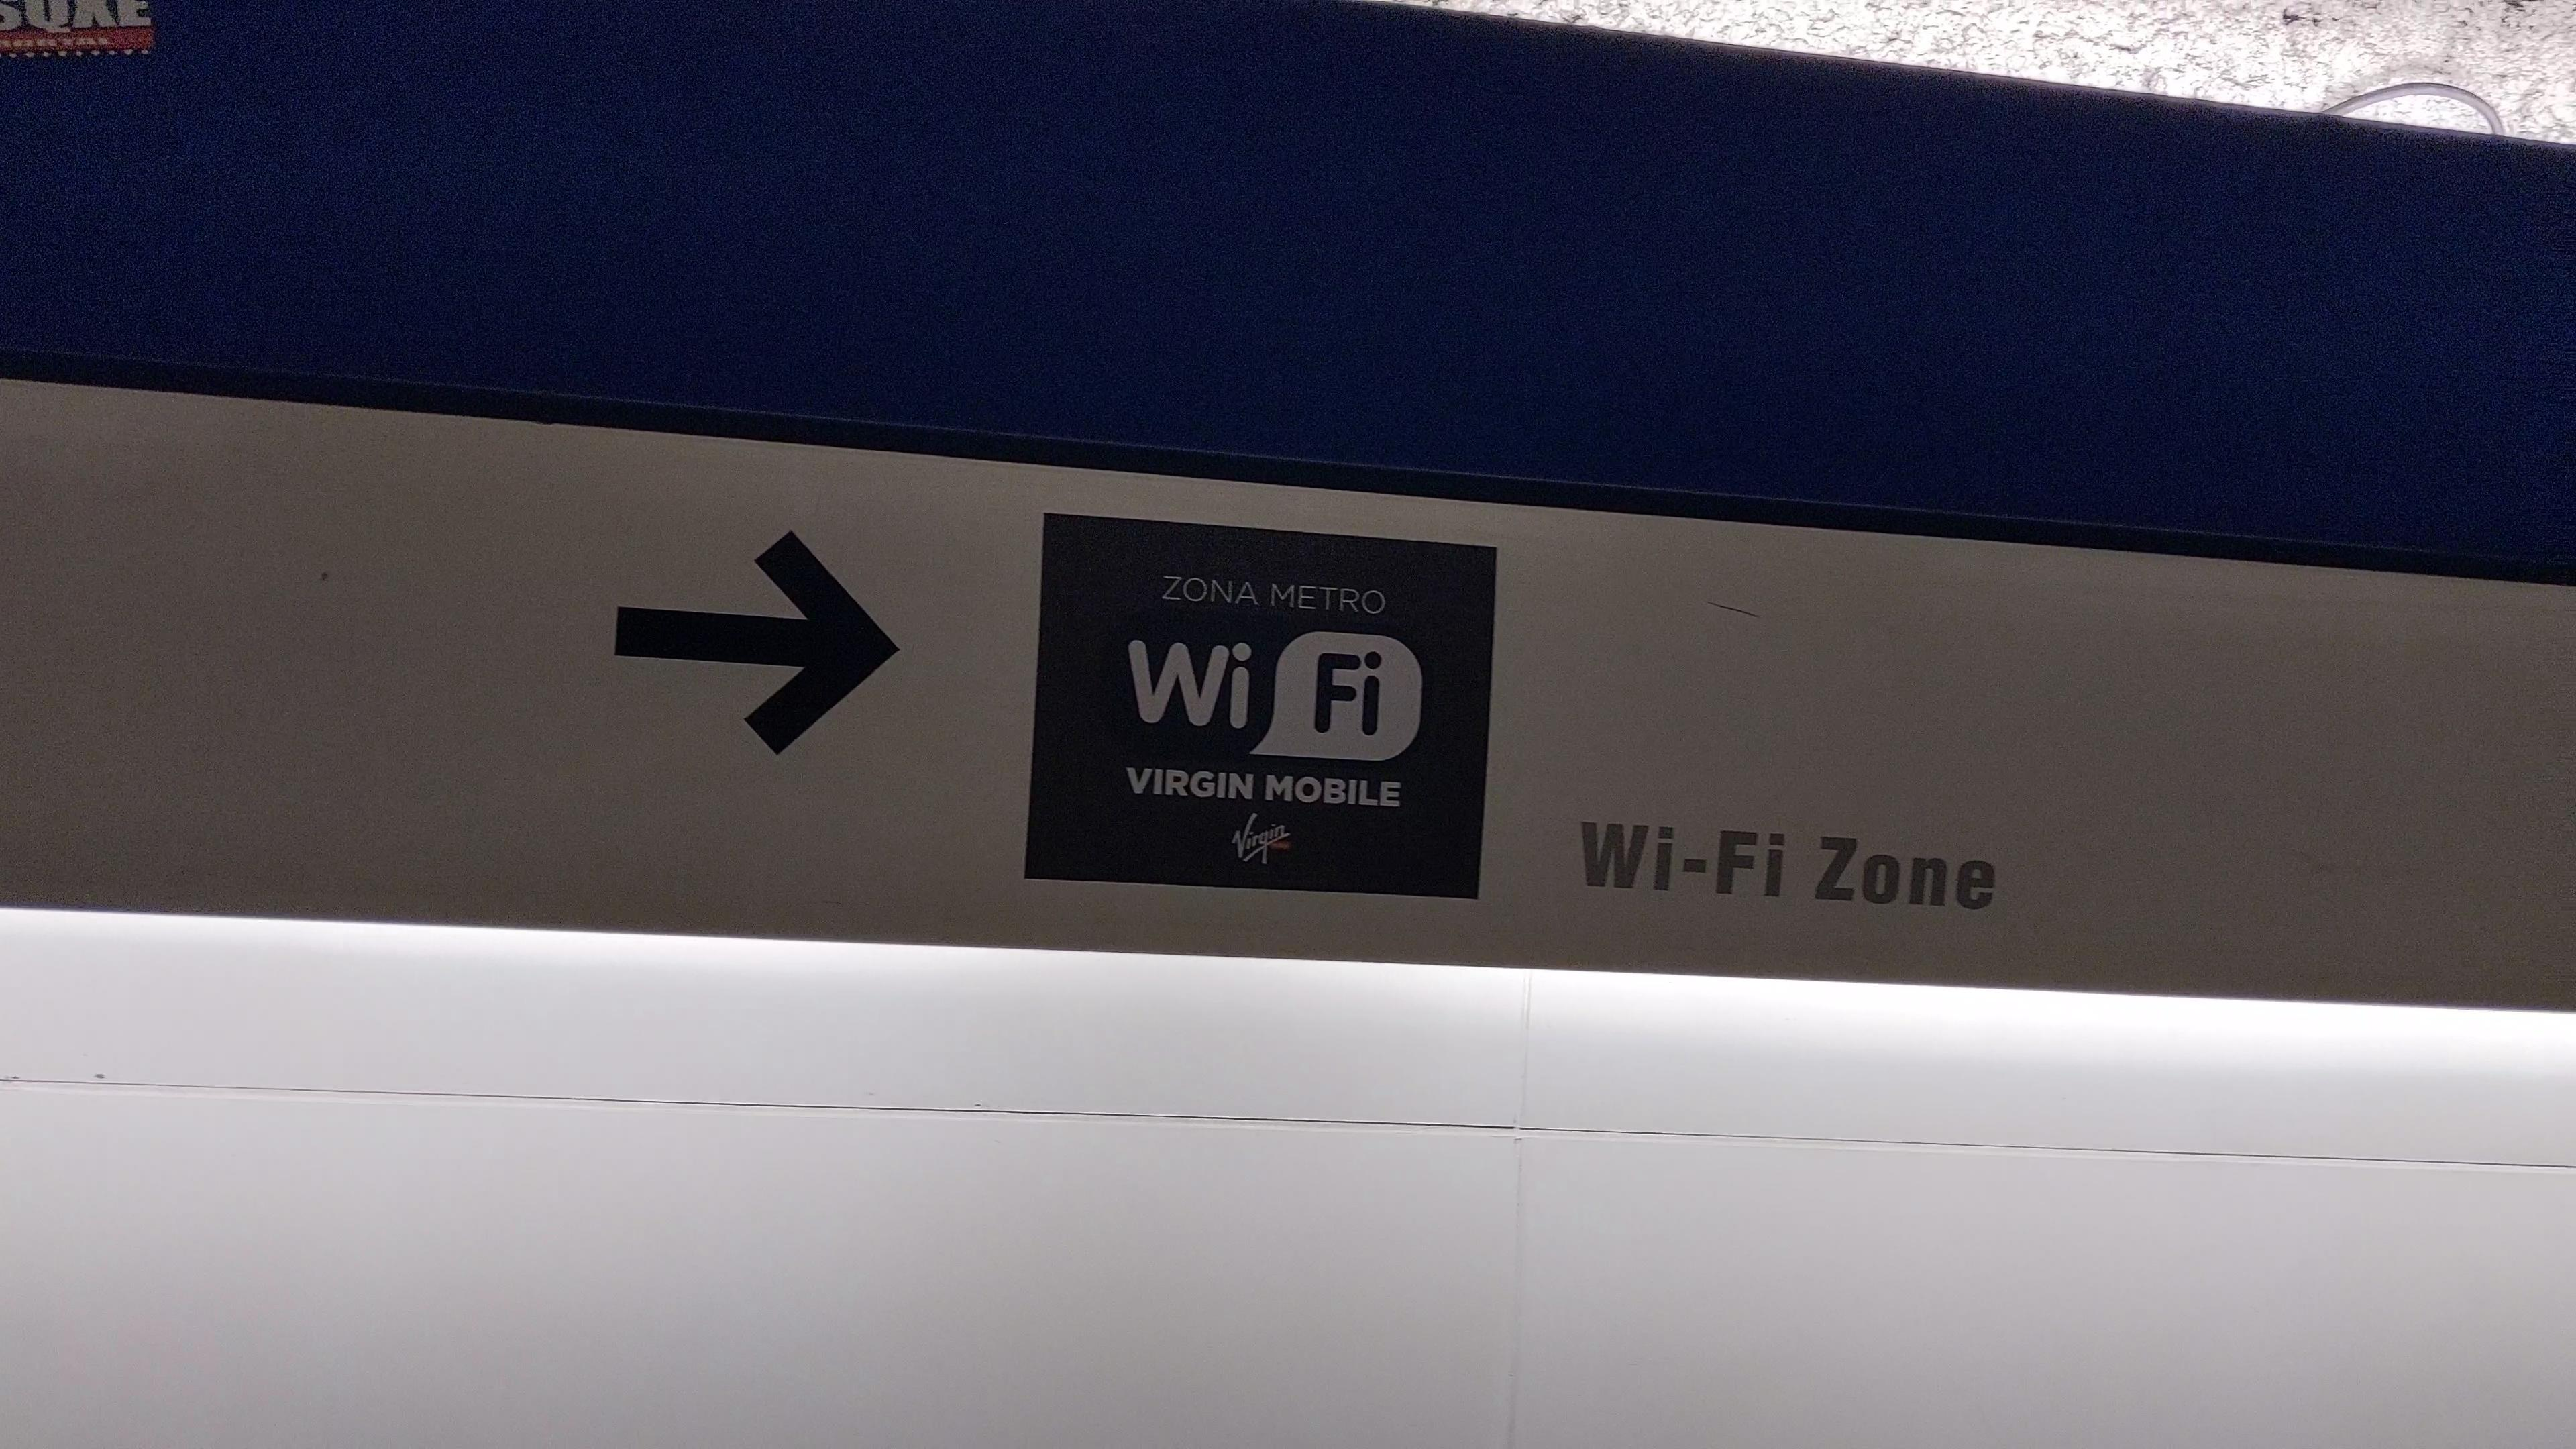right arrow: (609, 517, 906, 761)
